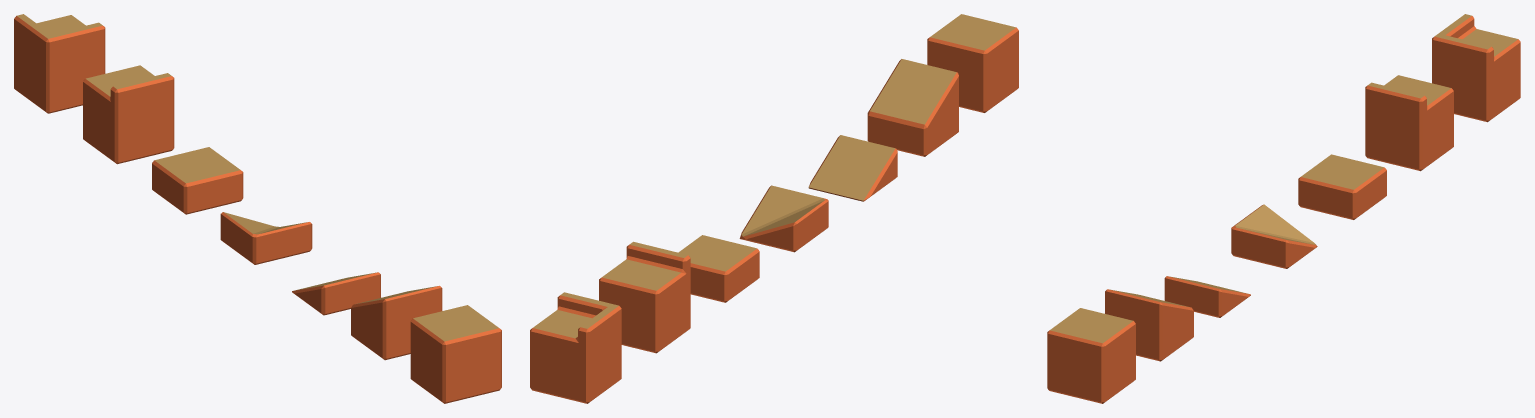
File: WorldBlocks.glb
3 views of the same model, side by side, from view 1: azimuth 30°, elevation 25°; view 2: azimuth 150°, elevation 25°; view 3: azimuth 330°, elevation 25° (orthographic). The views are drawn at different scales.
Visible parts, largest first — view 1: BlockWall, Block, BlockWallCorner, BlockShort, RampTop, RampLowerCenter, RampLower; view 2: BlockWallCorner, BlockWall, RampTop, Block, RampLowerCenter, RampLower, BlockShort; view 3: BlockWall, Block, BlockWallCorner, BlockShort, RampTop, RampLowerCenter, RampLower.
Boxes of the visible parts, bbox=[...] form: BlockWall: bbox=[83, 65, 174, 164]; Block: bbox=[410, 305, 501, 403]; BlockWallCorner: bbox=[14, 14, 105, 113]; BlockShort: bbox=[152, 147, 243, 214]; RampTop: bbox=[351, 285, 442, 360]; RampLowerCenter: bbox=[220, 212, 312, 264]; RampLower: bbox=[292, 272, 380, 315]; BlockWallCorner: bbox=[530, 292, 621, 403]; BlockWall: bbox=[599, 241, 690, 353]; RampTop: bbox=[867, 59, 958, 156]; Block: bbox=[927, 14, 1018, 112]; RampLowerCenter: bbox=[739, 185, 828, 252]; RampLower: bbox=[808, 135, 897, 201]; BlockShort: bbox=[678, 235, 759, 302]; BlockWall: bbox=[1365, 75, 1453, 171]; Block: bbox=[1047, 308, 1135, 403]; BlockWallCorner: bbox=[1432, 14, 1520, 122]; BlockShort: bbox=[1298, 154, 1386, 219]; RampTop: bbox=[1105, 289, 1193, 361]; RampLowerCenter: bbox=[1231, 204, 1317, 268]; RampLower: bbox=[1164, 276, 1250, 317].
Size of what is drawn, in the model's own units: 2 by 2.4 by 25.01.
